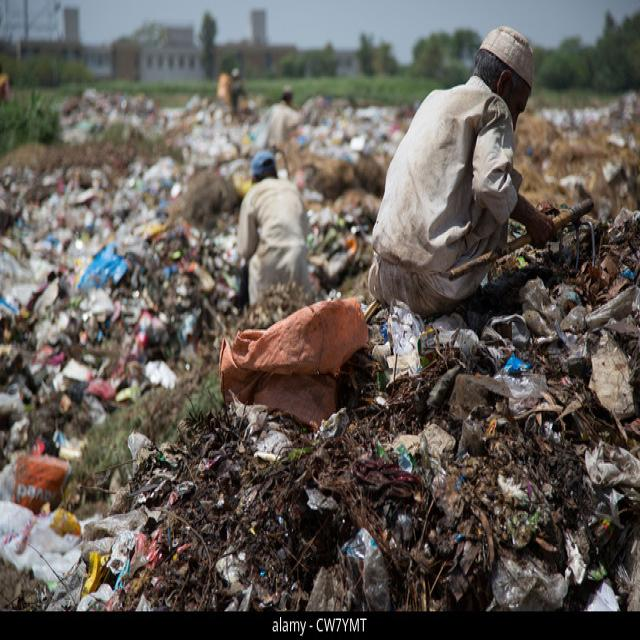plastic: (386, 318, 424, 394)
trash: (480, 321, 636, 591), (11, 179, 210, 375), (16, 510, 382, 613), (255, 319, 361, 428), (138, 109, 228, 153)
